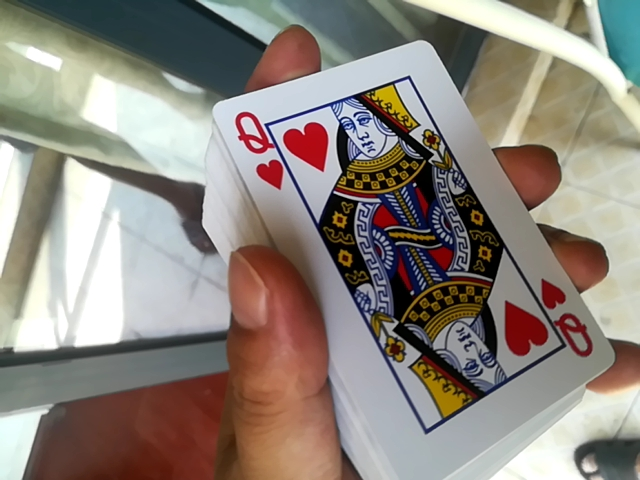hx q: (198, 13, 634, 479)
